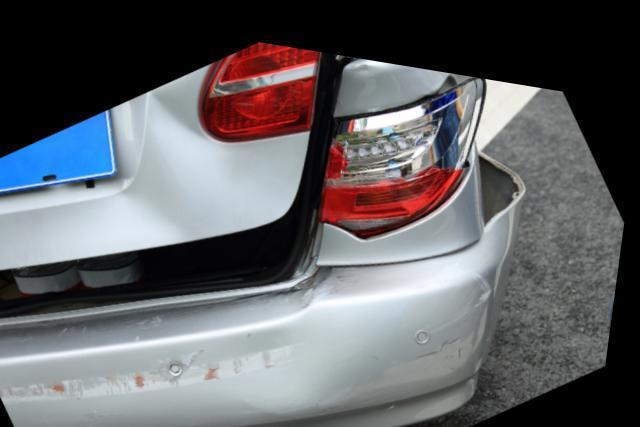dent: (152, 60, 212, 156), (348, 45, 378, 56)
dislocated part: (466, 80, 527, 252)
lamp broken: (322, 61, 482, 225)
scratch: (4, 331, 306, 404), (381, 252, 499, 392)
